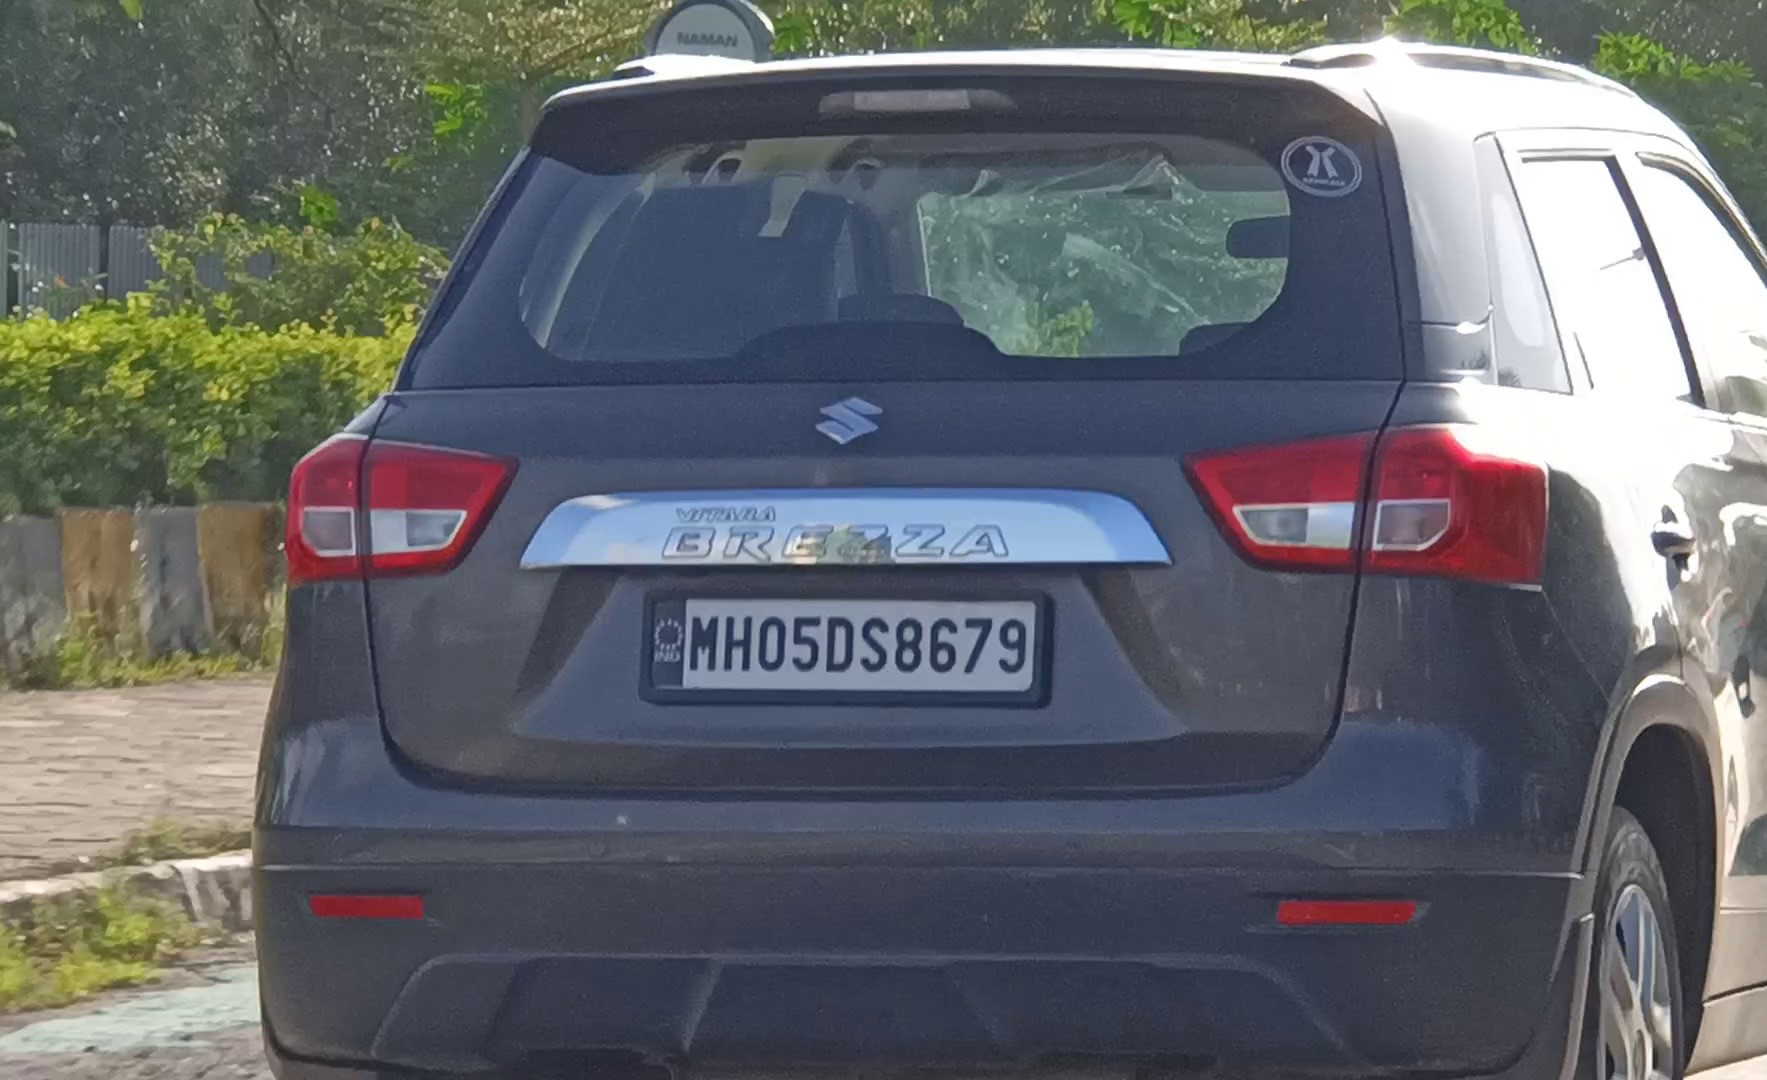MH05DS8679: (646, 594, 1036, 694)
